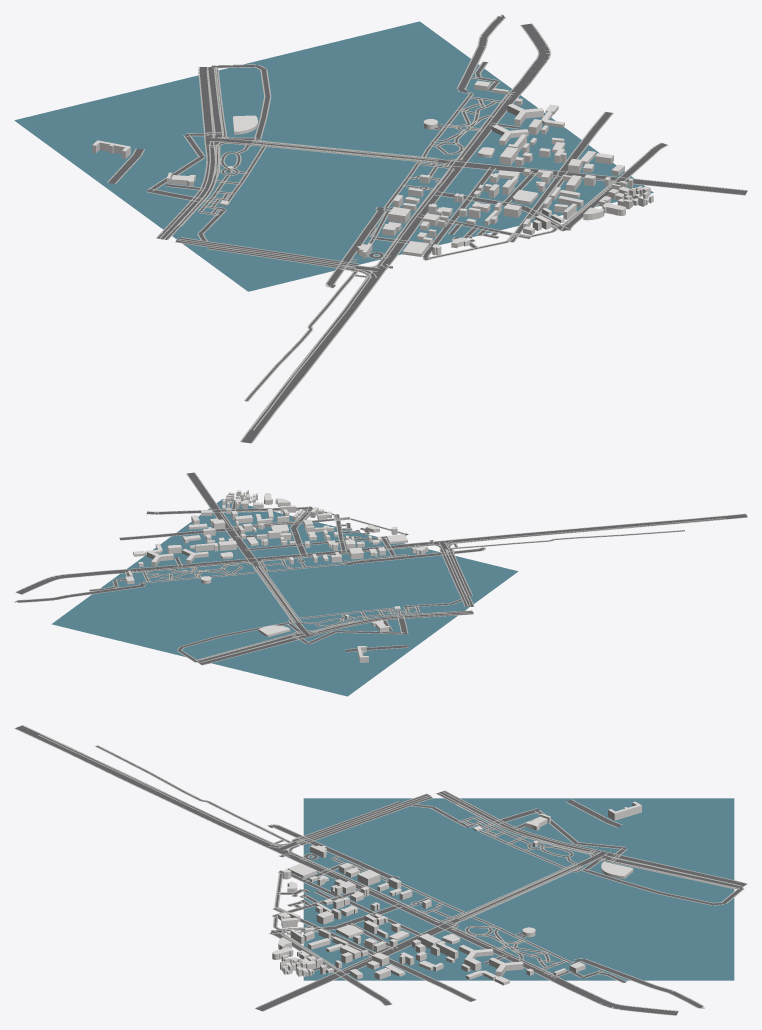
File: Map_Hue_Greybox.fbx
3 views of the same model, one above another, from view 1: azimuth 30°, elevation 25°; view 2: azimuth 150°, elevation 25°; view 3: azimuth 270°, elevation 25° (orthographic). The views are drawn at different scales.
Visible parts, largest first — view 1: SongHuong_Water, Road_Network, Sidewalk_Network, Buildings_Blockout; view 2: SongHuong_Water, Road_Network, Sidewalk_Network, Buildings_Blockout; view 3: SongHuong_Water, Road_Network, Sidewalk_Network, Buildings_Blockout.
Part boxes in pixels (bbox=[...]): SongHuong_Water: bbox=[14, 21, 653, 291]; Road_Network: bbox=[108, 15, 747, 443]; Sidewalk_Network: bbox=[107, 14, 747, 443]; Buildings_Blockout: bbox=[92, 80, 653, 258]; SongHuong_Water: bbox=[51, 499, 518, 696]; Road_Network: bbox=[15, 472, 747, 664]; Sidewalk_Network: bbox=[14, 472, 747, 665]; Buildings_Blockout: bbox=[125, 490, 428, 662]; SongHuong_Water: bbox=[303, 798, 734, 980]; Road_Network: bbox=[15, 725, 746, 1015]; Sidewalk_Network: bbox=[14, 725, 747, 1015]; Buildings_Blockout: bbox=[272, 801, 641, 985].
Size of the model in its own units: 1597 by 20.5 by 1704.
